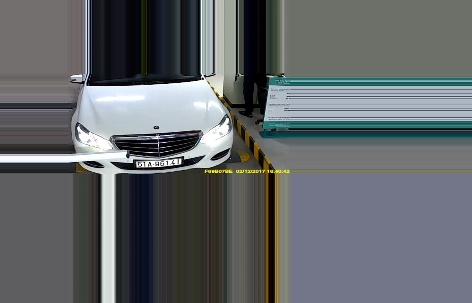plate: (134, 157, 185, 169)
